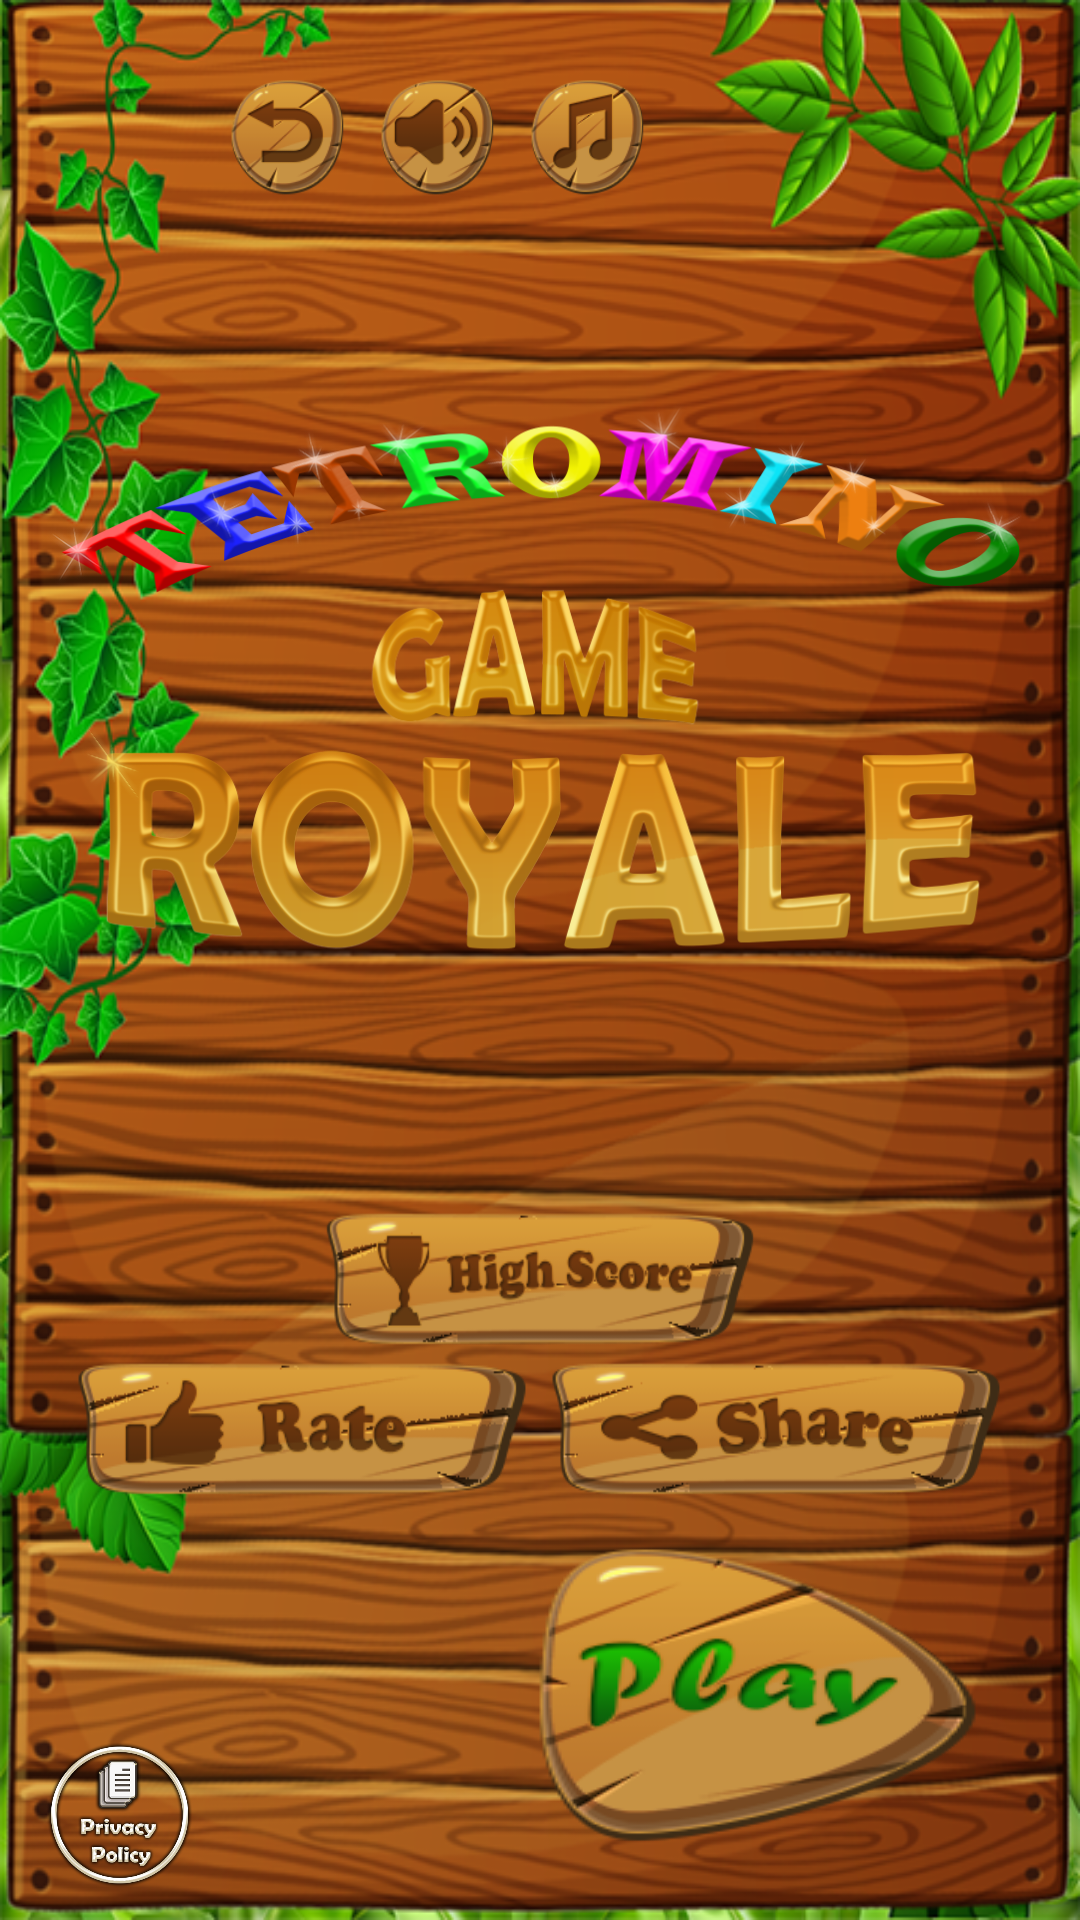

Where to tap for icons on this 1080w x 1920h app screen, as (x,y):
music on bt: (588,137)
quit game bt: (288,138)
sound bt: (438,138)
